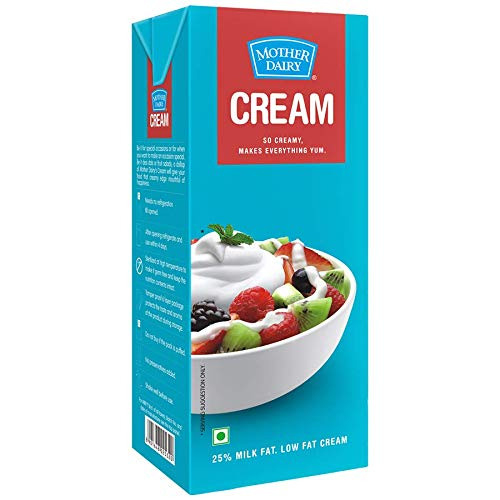Mother_Dairy: (237, 30, 328, 85), (141, 88, 175, 113)
